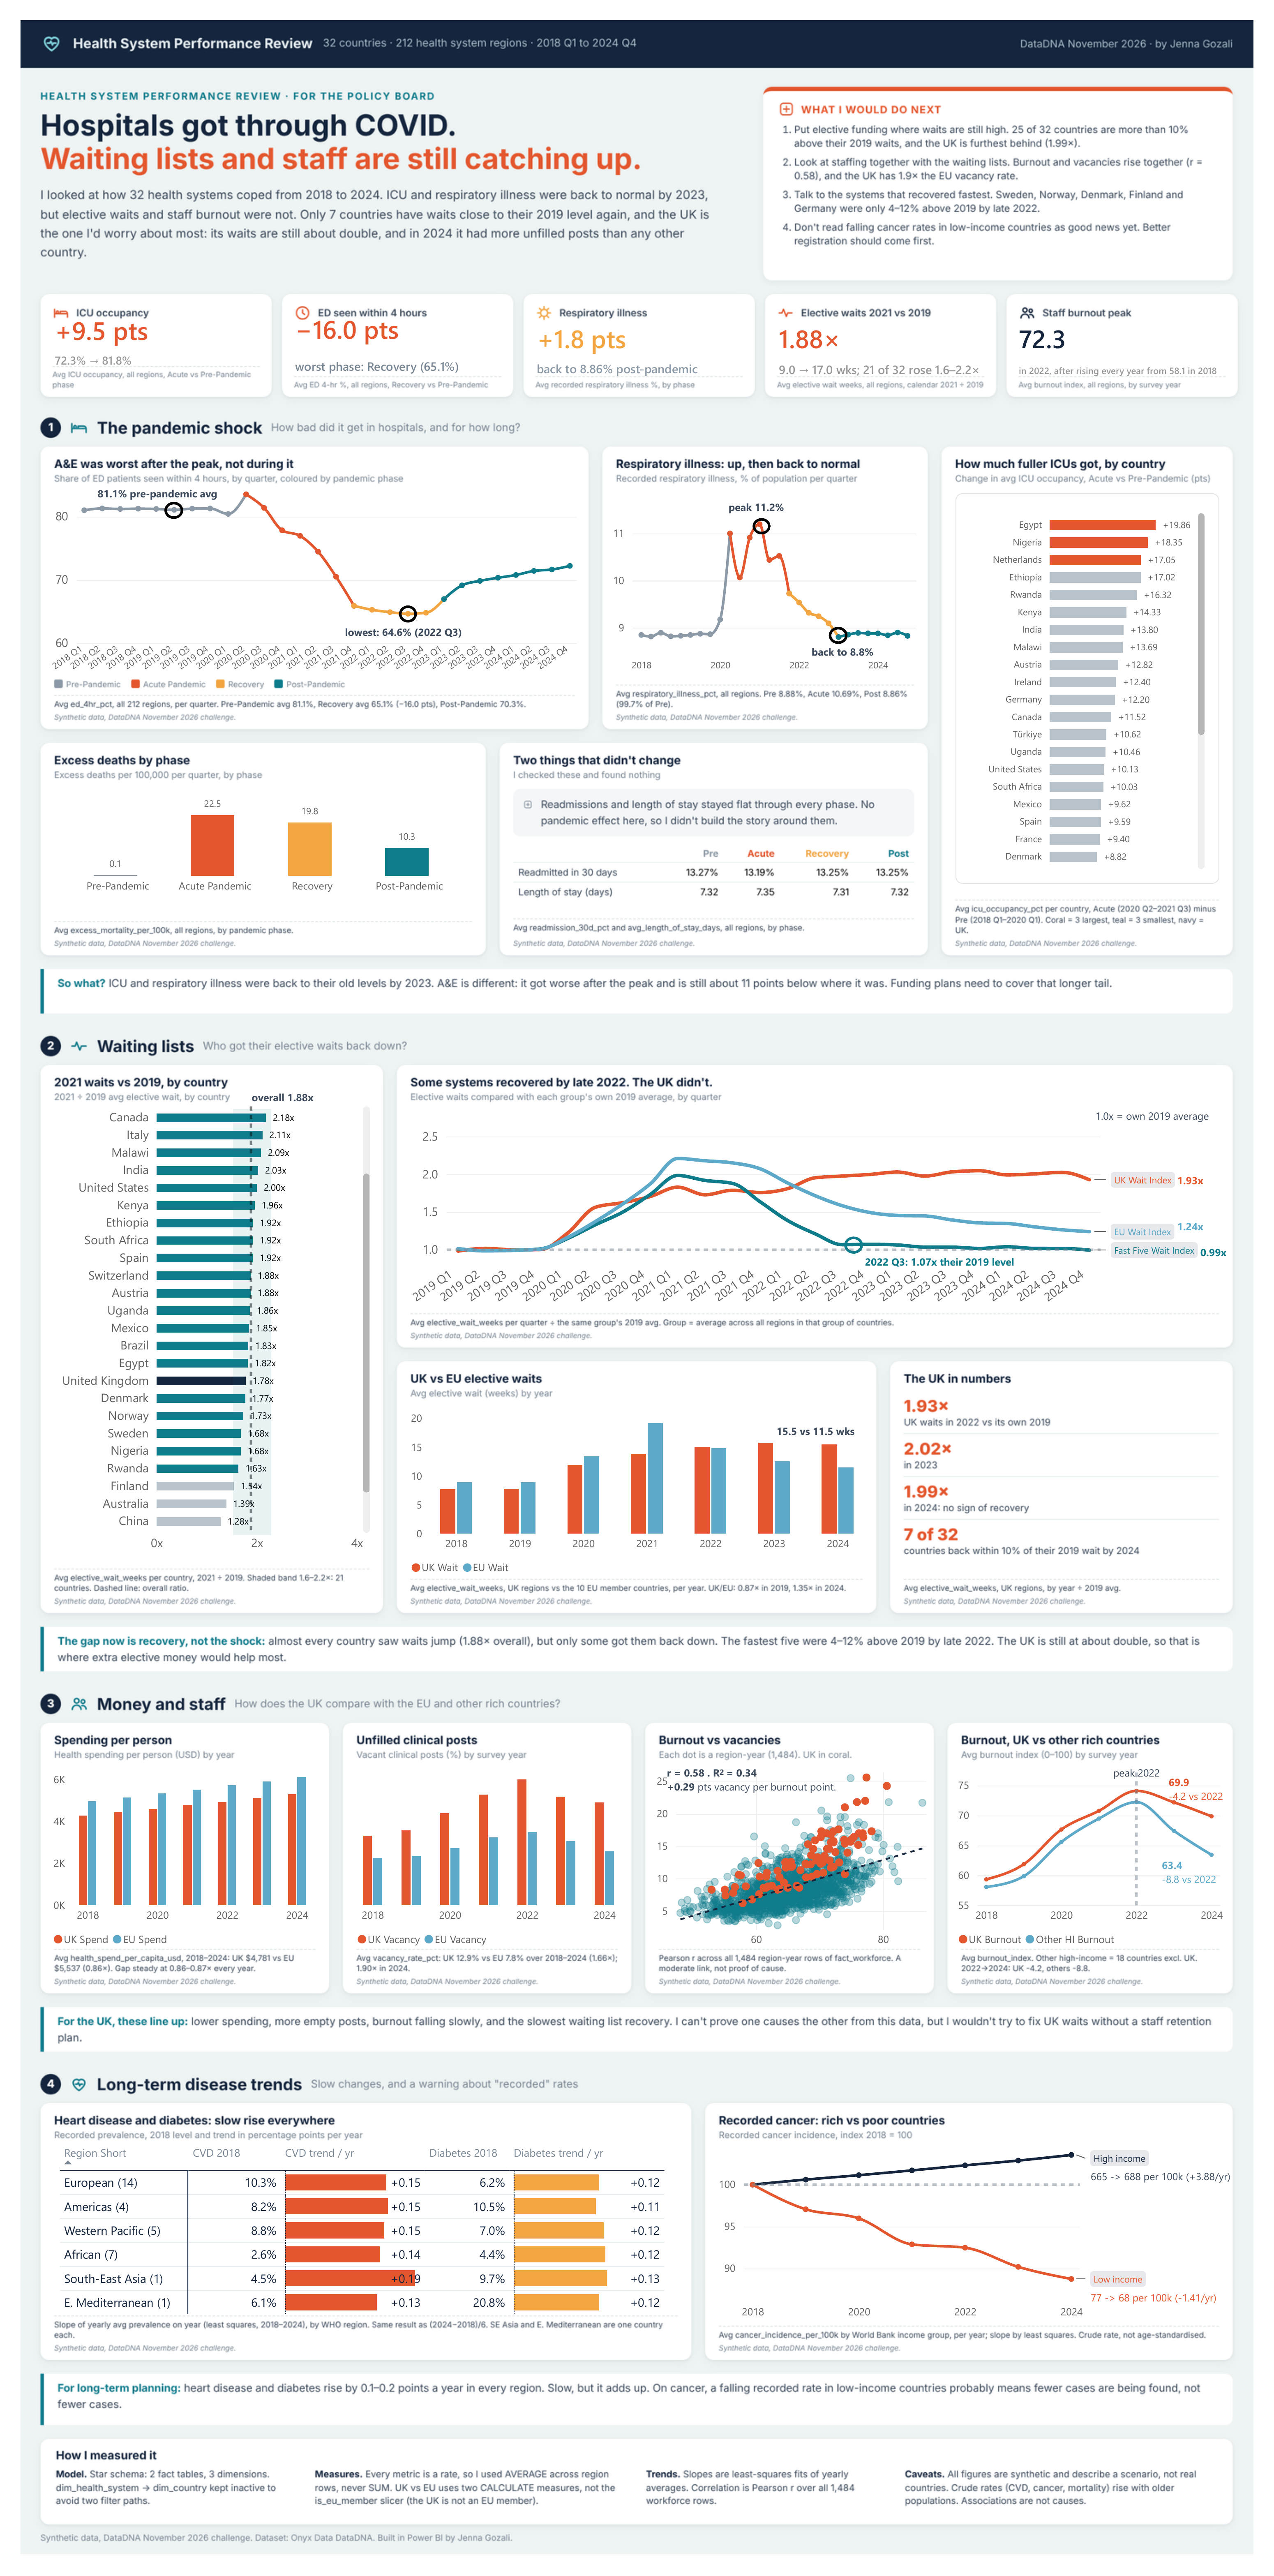

This screenshot's page, from the dashboard's own definition file:
{"tool":"powerbi","page":{"name":"DASHBOARD MAIN","canvas":[1440,2960],"ordinal":0},"visuals":[{"type":"cardVisual","fields":{"Data":["_Measures.KPI ICU"]},"box":[37,336,227,92],"z":0},{"type":"cardVisual","fields":{"Data":["_Measures.KPI ED Card"]},"box":[321.2,325,262.5,133.8],"z":1000},{"type":"cardVisual","fields":{"Data":["_Measures.KPI Wait"]},"box":[882.9,345.7,264.3,92.9],"z":2000},{"type":"cardVisual","fields":{"Data":["_Measures.KPI Burnout"]},"box":[1162.9,345.7,264.3,92.9],"z":3000},{"type":"lineChart","fields":{"Category":["dim_date.year_quarter"],"Y":["_Measures.ED Pre-Pandemic","_Measures.ED Acute","_Measures.ED Recovery","_Measures.ED Post-Pandemic"]},"box":[12.9,497.1,652.9,284.3],"z":4000},{"type":"textbox","box":[378.6,705.7,157.1,22.9],"z":5000},{"type":"shape","box":[441.7,682.7,21.7,20.1],"z":6000},{"type":"textbox","box":[89.7,543.7,157.1,22.9],"z":7000},{"type":"shape","box":[167.8,562.1,21.8,19.5],"z":8000},{"type":"lineChart","fields":{"Category":["dim_date.quarter_start_date"],"Y":["_Measures.Resp Pre-Pandemic","_Measures.Resp Acute","_Measures.Resp Recovery","_Measures.Resp Post-Pandemic"]},"box":[675.8,543.3,388.3,238.3],"z":9000},{"type":"shape","box":[855,581.2,21.2,18.8],"z":10000},{"type":"shape","box":[944.2,708.3,21.7,20.1],"z":11000},{"type":"textbox","box":[827.1,560,157.1,22.9],"z":12000},{"type":"textbox","box":[924.3,728.6,91.4,22.9],"z":13000},{"type":"cardVisual","fields":{"Data":["_Measures.KPI Resp"]},"box":[600,345.7,227,92],"z":14000},{"type":"clusteredBarChart","fields":{"Category":["dim_country.country_name"],"Y":["_Measures.ICU Change pts"]},"box":[1092,552,308,456],"z":15000},{"type":"clusteredColumnChart","fields":{"Category":["dim_date.pandemic_phase"],"Y":["_Measures.Avg Excess Deaths"]},"box":[40,896,488,128],"z":16000},{"type":"clusteredBarChart","fields":{"Category":["dim_country.country_name"],"Y":["_Measures.Wait Ratio 21 vs 19"]},"box":[40,1260,367.5,532.5],"z":17000},{"type":"textbox","box":[270,1248.8,101.4,22.9],"z":18000},{"type":"lineChart","fields":{"Category":["dim_date.year_quarter"],"Y":["_Measures.UK Wait Index","_Measures.Fast Five Wait Index","_Measures.EU Wait Index"]},"box":[453.2,1259.5,921.5,254.4],"z":19000},{"type":"textbox","box":[1236.7,1270.9,151.1,23.3],"z":20000},{"type":"shape","box":[962,1420.3,21.7,20.1],"z":21000},{"type":"textbox","box":[965.8,1440.5,215.2,22.8],"z":22000},{"type":"textbox","box":[1350.6,1345.6,49.4,20.3],"z":23000},{"type":"textbox","box":[1350.6,1400,49.4,20.3],"z":24000},{"type":"textbox","box":[1378.5,1430.4,49.4,20.3],"z":25000},{"type":"clusteredColumnChart","fields":{"Category":["dim_date.year"],"Y":["_Measures.UK Wait","_Measures.EU Wait"]},"box":[456.2,1610,527.5,210],"z":26000},{"type":"textbox","box":[882.5,1638.8,101.4,22.9],"z":27000},{"type":"clusteredColumnChart","fields":{"Category":["dim_date.year"],"Y":["_Measures.UK Spend","_Measures.EU Spend"]},"box":[37.5,2032.5,301.2,221.2],"z":28000},{"type":"clusteredColumnChart","fields":{"Category":["dim_date.year"],"Y":["_Measures.UK Vacancy","_Measures.EU Vacancy"]},"box":[392.5,2032.5,307.5,221.2],"z":29000},{"type":"scatterChart","fields":{"Category":["fact_workforce.workforce_id"],"Series":["dim_country.UK Flag"],"X":["Avg(fact_workforce.burnout_index)"],"Y":["Avg(fact_workforce.vacancy_rate_pct)"]},"box":[742.5,2037.5,322.5,216.2],"z":30000},{"type":"lineChart","fields":{"Category":["dim_date.year"],"Y":["_Measures.UK Burnout","_Measures.Other HI Burnout"]},"box":[1095,2037.5,308.8,216.2],"z":31000},{"type":"textbox","box":[1227.5,2037.5,151.1,23.3],"z":32000},{"type":"textbox","box":[1341.2,2048.8,85,47.5],"z":33000},{"type":"textbox","box":[1332.5,2146.2,85,47.5],"z":34000},{"type":"pivotTable","fields":{"Rows":["dim_country.Region Short"],"Values":["_Measures.CVD 2018","_Measures.CVD Slope per Year","_Measures.Diabetes 2018","_Measures.Diabetes Slope per Year"]},"box":[30,2462.5,755,243.8],"z":35000},{"type":"lineChart","fields":{"Category":["dim_date.year"],"Series":["dim_country.income_group"],"Y":["_Measures.Cancer Index"]},"box":[815,2478.8,506.2,210],"z":36000},{"type":"textbox","box":[1250,2508.8,190,28.8],"z":37000},{"type":"textbox","box":[1250,2651.2,190,28.8],"z":38000},{"type":"textbox","box":[755,2037.5,251.2,35],"z":39000},{"type":"shape","box":[247.5,1271.2,45,497.5],"z":40000}]}

Visuals, with their boxes on the page's 1440x2960 design canvas (x1, y1, x2, y2). These are canvas units, not pixel positions in the 1274x2576 screenshot, which may show the page scaled, cropped or inside an application window:
cardVisual - _Measures.KPI ICU: BBox(37, 336, 264, 428)
cardVisual - _Measures.KPI ED Card: BBox(321, 325, 584, 459)
cardVisual - _Measures.KPI Wait: BBox(883, 346, 1147, 439)
cardVisual - _Measures.KPI Burnout: BBox(1163, 346, 1427, 439)
lineChart - dim_date.year_quarter x _Measures.ED Pre-Pandemic: BBox(13, 497, 666, 781)
textbox: BBox(379, 706, 536, 729)
shape: BBox(442, 683, 463, 703)
textbox: BBox(90, 544, 247, 567)
shape: BBox(168, 562, 190, 582)
lineChart - dim_date.quarter_start_date x _Measures.Resp Pre-Pandemic: BBox(676, 543, 1064, 782)
shape: BBox(855, 581, 876, 600)
shape: BBox(944, 708, 966, 728)
textbox: BBox(827, 560, 984, 583)
textbox: BBox(924, 729, 1016, 752)
cardVisual - _Measures.KPI Resp: BBox(600, 346, 827, 438)
clusteredBarChart - dim_country.country_name x _Measures.ICU Change pts: BBox(1092, 552, 1400, 1008)
clusteredColumnChart - dim_date.pandemic_phase x _Measures.Avg Excess Deaths: BBox(40, 896, 528, 1024)
clusteredBarChart - dim_country.country_name x _Measures.Wait Ratio 21 vs 19: BBox(40, 1260, 408, 1792)
textbox: BBox(270, 1249, 371, 1272)
lineChart - dim_date.year_quarter x _Measures.UK Wait Index: BBox(453, 1260, 1375, 1514)
textbox: BBox(1237, 1271, 1388, 1294)
shape: BBox(962, 1420, 984, 1440)
textbox: BBox(966, 1440, 1181, 1463)
textbox: BBox(1351, 1346, 1400, 1366)
textbox: BBox(1351, 1400, 1400, 1420)
textbox: BBox(1378, 1430, 1428, 1451)
clusteredColumnChart - dim_date.year x _Measures.UK Wait: BBox(456, 1610, 984, 1820)
textbox: BBox(882, 1639, 984, 1662)
clusteredColumnChart - dim_date.year x _Measures.UK Spend: BBox(38, 2032, 339, 2254)
clusteredColumnChart - dim_date.year x _Measures.UK Vacancy: BBox(392, 2032, 700, 2254)
scatterChart - fact_workforce.workforce_id x dim_country.UK Flag: BBox(742, 2038, 1065, 2254)
lineChart - dim_date.year x _Measures.UK Burnout: BBox(1095, 2038, 1404, 2254)
textbox: BBox(1228, 2038, 1379, 2061)
textbox: BBox(1341, 2049, 1426, 2096)
textbox: BBox(1332, 2146, 1418, 2194)
pivotTable - dim_country.Region Short x _Measures.CVD 2018: BBox(30, 2462, 785, 2706)
lineChart - dim_date.year x dim_country.income_group: BBox(815, 2479, 1321, 2689)
textbox: BBox(1250, 2509, 1440, 2538)
textbox: BBox(1250, 2651, 1440, 2680)
textbox: BBox(755, 2038, 1006, 2072)
shape: BBox(248, 1271, 292, 1769)
